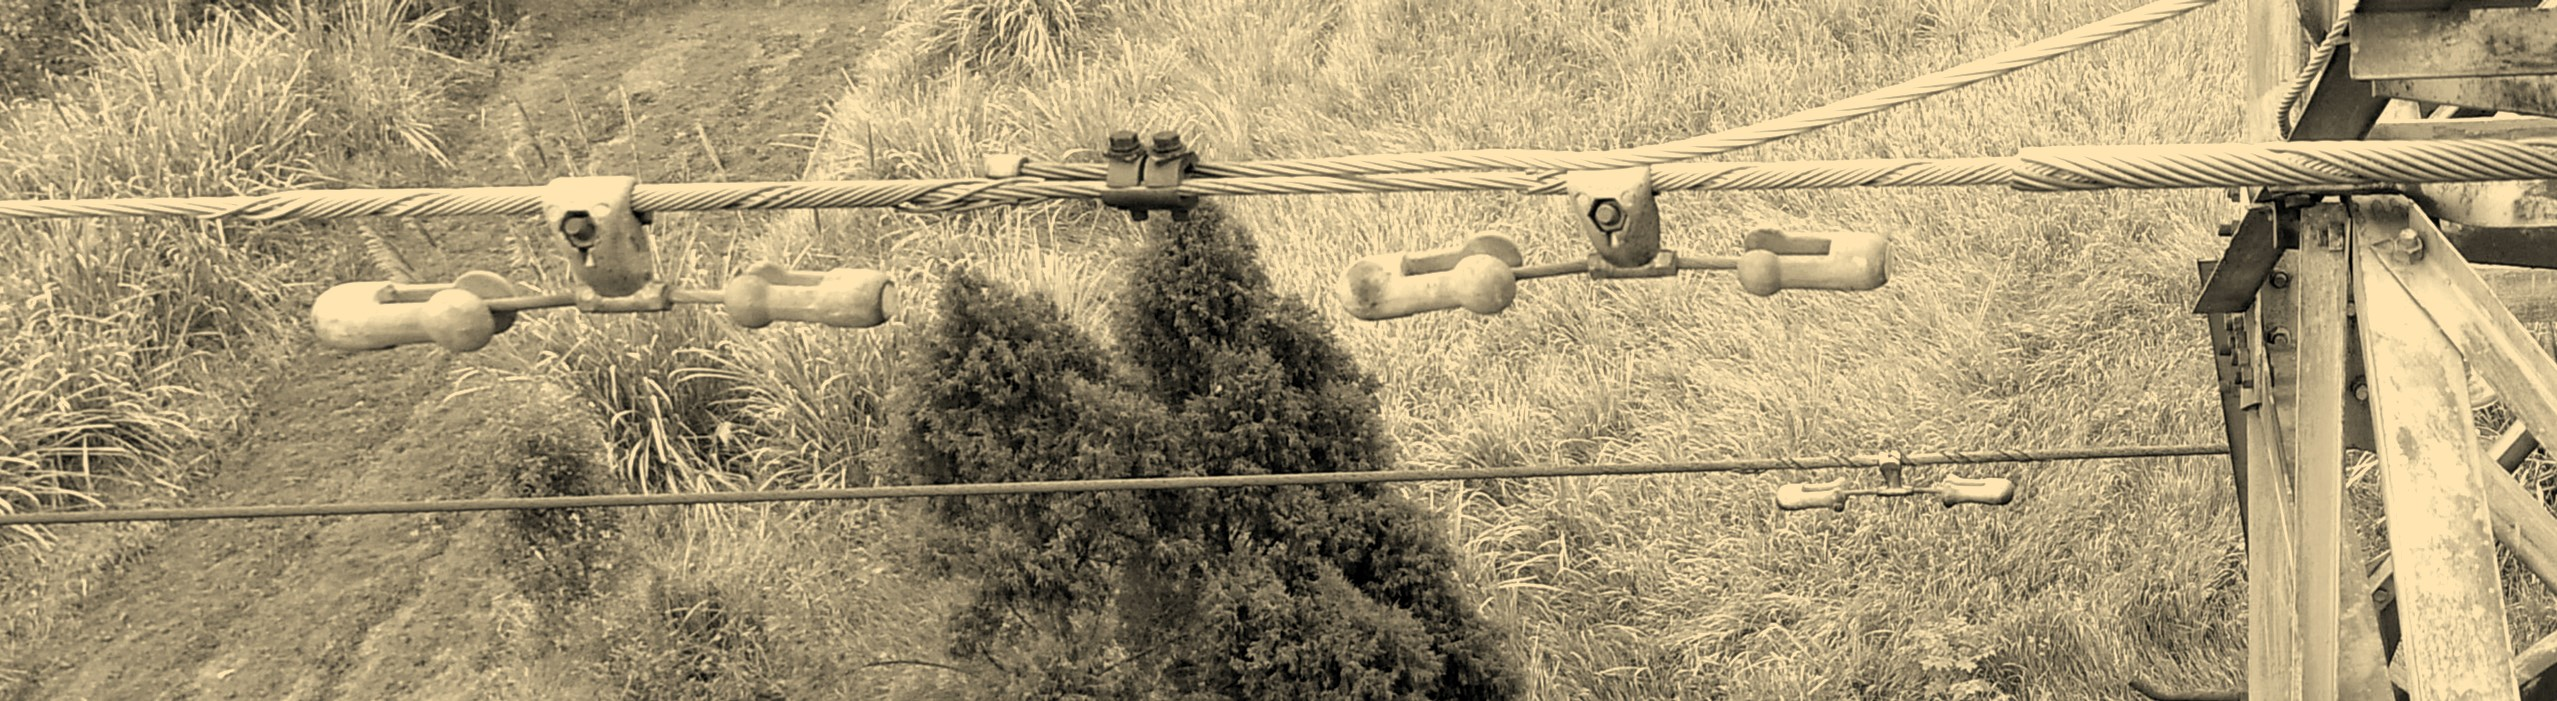Shockproof hammer: (295, 161, 903, 360), (1332, 135, 1911, 321), (1756, 437, 2020, 522)
